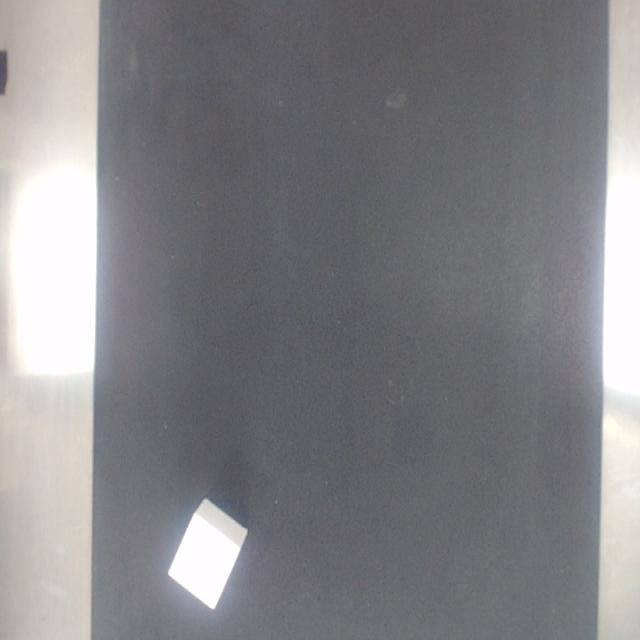Blanco: (169, 499, 247, 609)
